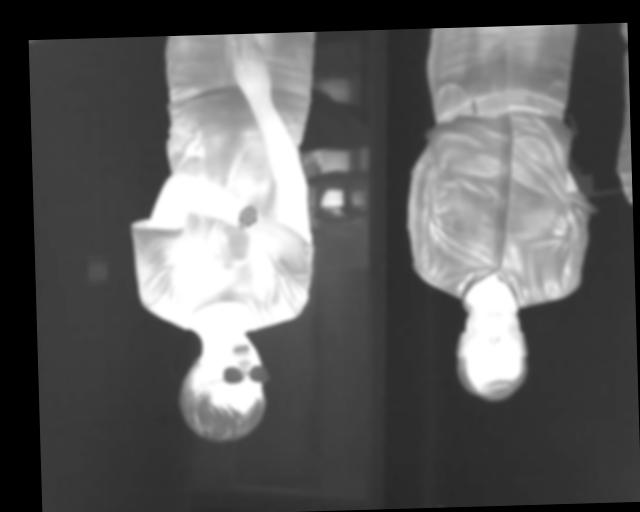face: (177, 329, 269, 444), (454, 294, 531, 405)
